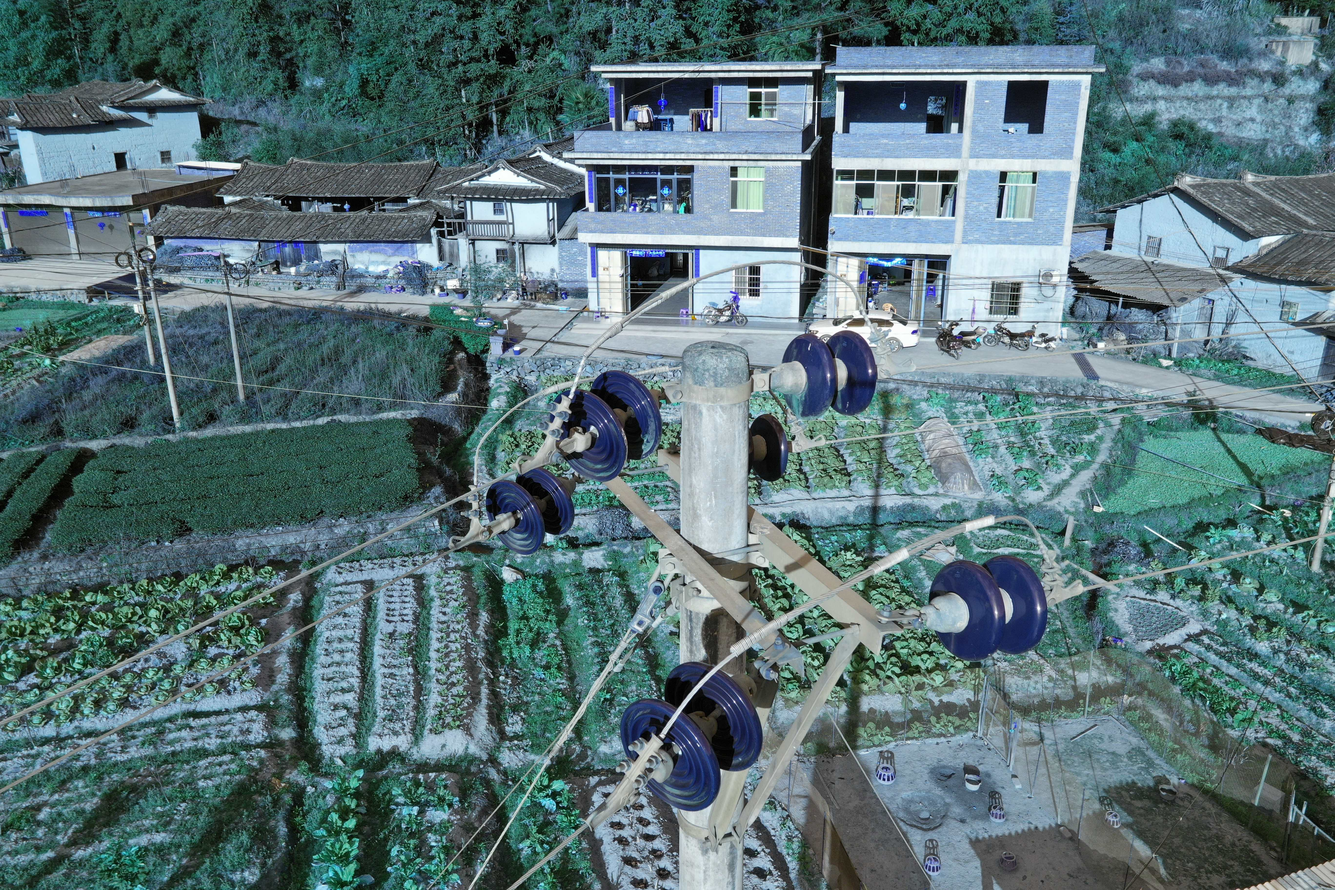severe_soiling_no_discharge_whole: (616, 657, 766, 813), (551, 367, 666, 483), (767, 326, 879, 422), (487, 460, 579, 558)
